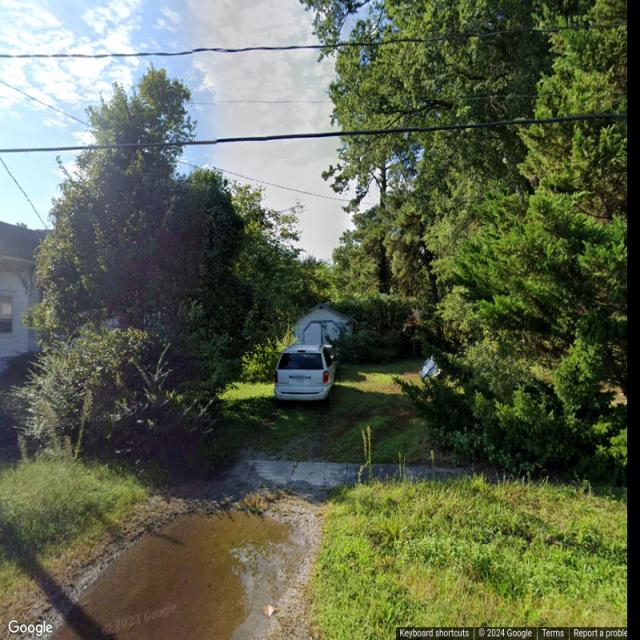House: (0, 222, 151, 377), (291, 304, 356, 361)
